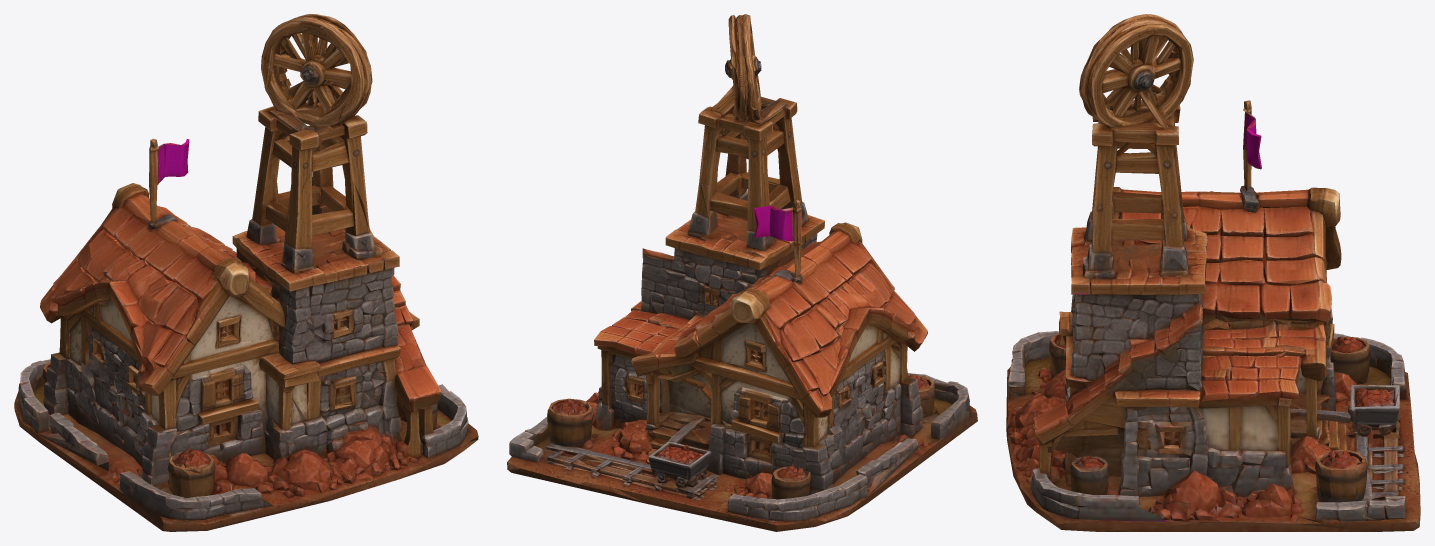
Rendered from clay_mine3.glb.
3 renders of one model, left to right at view 1: azimuth 30°, elevation 25°; view 2: azimuth 150°, elevation 25°; view 3: azimuth 270°, elevation 25°, orthographic. The views are drawn at different scales.
Parts seen in each view (by area): view 1: Mesh_0; view 2: Mesh_0; view 3: Mesh_0.
Part boxes in pixels (x1=…): Mesh_0: x1=14, y1=14, x2=478, y2=531; Mesh_0: x1=507, y1=14, x2=977, y2=531; Mesh_0: x1=1006, y1=14, x2=1420, y2=531.
Bounding box in the file's own units: 1.58 × 1.9 × 1.59.
Materials: 1 (1 with a texture image).
